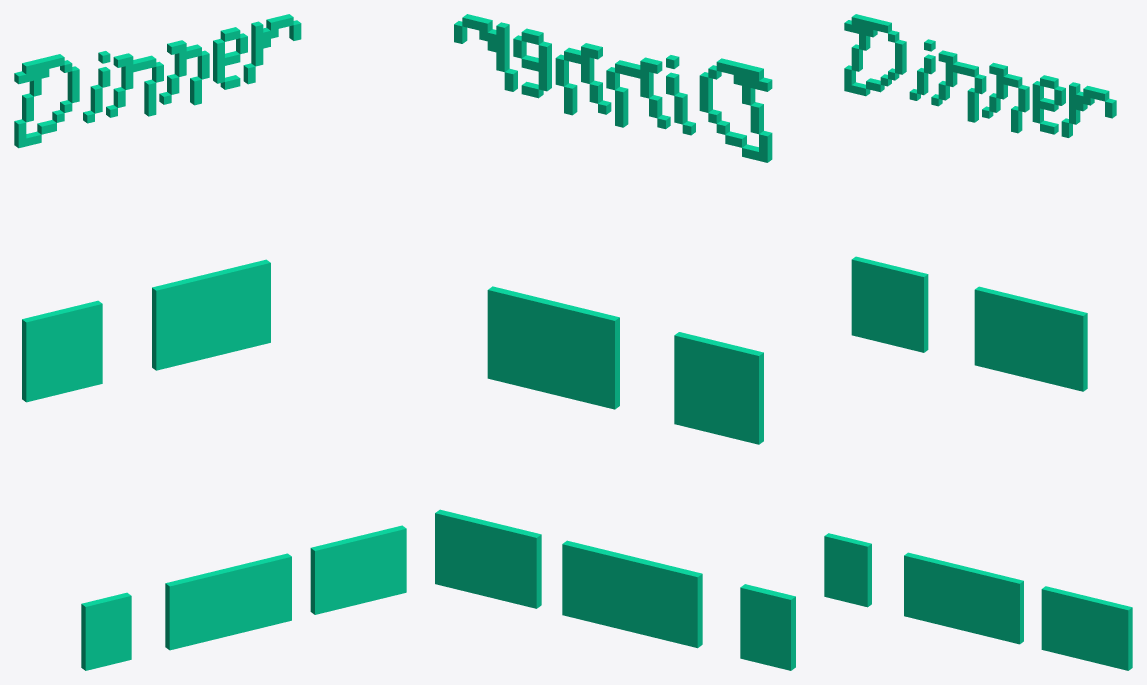
The model's file is Street3-0.obj.
3 renders of one model, left to right at view 1: azimuth 30°, elevation 25°; view 2: azimuth 150°, elevation 25°; view 3: azimuth 330°, elevation 25°, orthographic. The views are drawn at different scales.
Bounding box in the file's own units: 4.5 × 7.2 × 1.1.
1 material, 1 textured.
